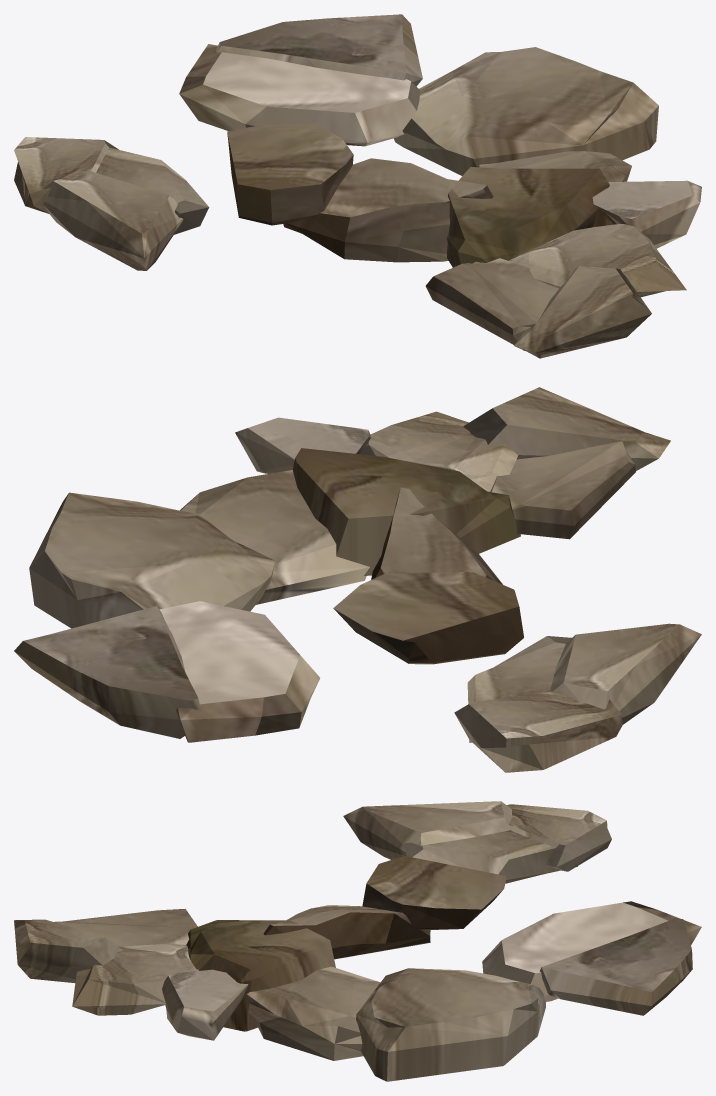
File: FX_MESH_Neru_Crack_01.fbx
3 renders of one model, top to bottom at view 1: azimuth 30°, elevation 25°; view 2: azimuth 150°, elevation 25°; view 3: azimuth 270°, elevation 25°, orthographic. The views are drawn at different scales.
Visible parts, largest first — view 1: Cylinder001_frag_051, Cylinder001_frag_049, Cylinder001_frag_044, Cylinder001_frag_021, Cylinder001_frag_010, Cylinder001_frag_006, Cylinder001_frag_043, Cylinder001_frag_037, Cylinder001_frag_029, Cylinder001_frag_050, Cylinder001_frag_015, Cylinder001_frag_005 (+2 smaller); view 2: Cylinder001_frag_051, Cylinder001_frag_049, Cylinder001_frag_021, Cylinder001_frag_006, Cylinder001_frag_010, Cylinder001_frag_035, Cylinder001_frag_005, Cylinder001_frag_043, Cylinder001_frag_029, Cylinder001_frag_037, Cylinder001_frag_050, Cylinder001_frag_044 (+2 smaller); view 3: Cylinder001_frag_051, Cylinder001_frag_006, Cylinder001_frag_021, Cylinder001_frag_035, Cylinder001_frag_049, Cylinder001_frag_010, Cylinder001_frag_043, Cylinder001_frag_050, Cylinder001_frag_044, Cylinder001_frag_037, Cylinder001_frag_026, Cylinder001_frag_015 (+2 smaller).
Boxes of the visible parts, x1,y1,x2,y2 form: Cylinder001_frag_051: [394, 47, 658, 175]; Cylinder001_frag_049: [179, 44, 420, 146]; Cylinder001_frag_044: [283, 158, 493, 262]; Cylinder001_frag_021: [446, 167, 616, 267]; Cylinder001_frag_010: [227, 123, 353, 225]; Cylinder001_frag_006: [216, 14, 422, 86]; Cylinder001_frag_043: [43, 170, 183, 270]; Cylinder001_frag_037: [514, 266, 651, 358]; Cylinder001_frag_029: [425, 258, 558, 350]; Cylinder001_frag_050: [508, 224, 686, 297]; Cylinder001_frag_015: [592, 180, 701, 248]; Cylinder001_frag_005: [14, 137, 118, 213]; Cylinder001_frag_051: [29, 492, 275, 628]; Cylinder001_frag_049: [159, 601, 319, 742]; Cylinder001_frag_021: [293, 448, 520, 575]; Cylinder001_frag_006: [14, 606, 200, 738]; Cylinder001_frag_010: [333, 571, 523, 664]; Cylinder001_frag_035: [180, 470, 369, 604]; Cylinder001_frag_005: [454, 691, 622, 772]; Cylinder001_frag_043: [550, 623, 701, 724]; Cylinder001_frag_029: [490, 441, 635, 539]; Cylinder001_frag_037: [463, 387, 670, 470]; Cylinder001_frag_050: [360, 411, 517, 491]; Cylinder001_frag_044: [371, 487, 502, 584]; Cylinder001_frag_051: [356, 968, 545, 1081]; Cylinder001_frag_006: [540, 918, 692, 1015]; Cylinder001_frag_021: [186, 920, 335, 1031]; Cylinder001_frag_035: [247, 966, 380, 1060]; Cylinder001_frag_049: [482, 901, 701, 1001]; Cylinder001_frag_010: [362, 856, 506, 930]; Cylinder001_frag_043: [343, 801, 511, 859]; Cylinder001_frag_050: [72, 944, 198, 1015]; Cylinder001_frag_044: [263, 905, 430, 959]; Cylinder001_frag_037: [14, 919, 122, 982]; Cylinder001_frag_026: [403, 830, 577, 883]; Cylinder001_frag_015: [162, 969, 248, 1040].
Size of the model in its own units: 1.1 by 0.123 by 1.29.
